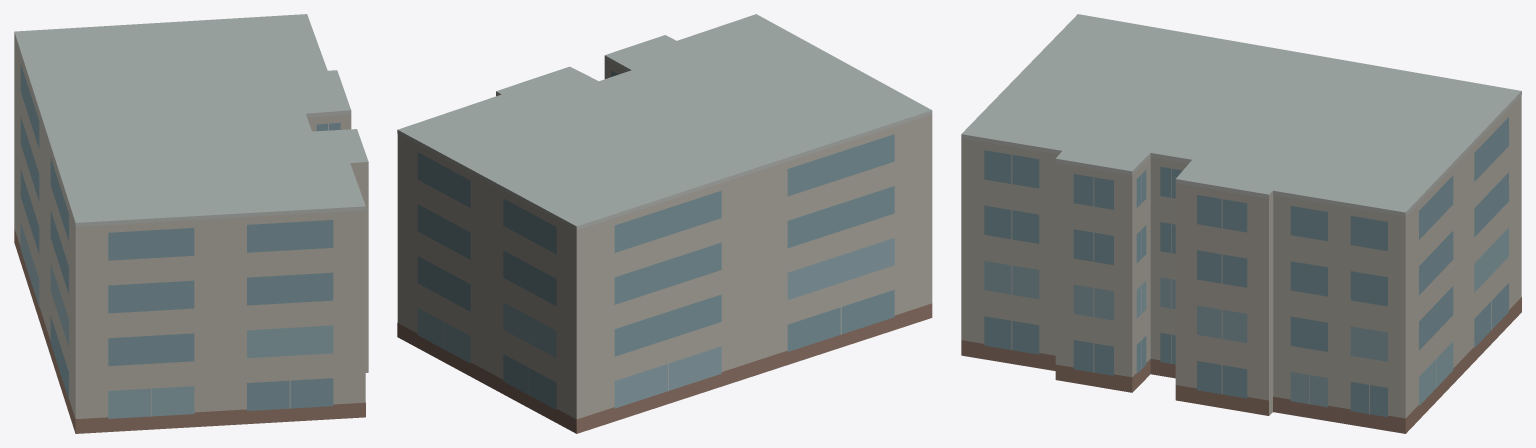
Rendered from survey-upis-32674887.glb.
3 renders of one model, left to right at view 1: azimuth 30°, elevation 25°; view 2: azimuth 150°, elevation 25°; view 3: azimuth 270°, elevation 25°, orthographic. The views are drawn at different scales.
Parts seen in each view (by area): view 1: survey-upis-32674887.tmp; view 2: survey-upis-32674887.tmp; view 3: survey-upis-32674887.tmp.
Boxes of the visible parts, x1,y1,x2,y2 form: survey-upis-32674887.tmp: [14, 14, 368, 433]; survey-upis-32674887.tmp: [397, 14, 932, 433]; survey-upis-32674887.tmp: [961, 14, 1521, 433].
Bounding box in the file's own units: 24.82 × 12.9 × 29.61.
